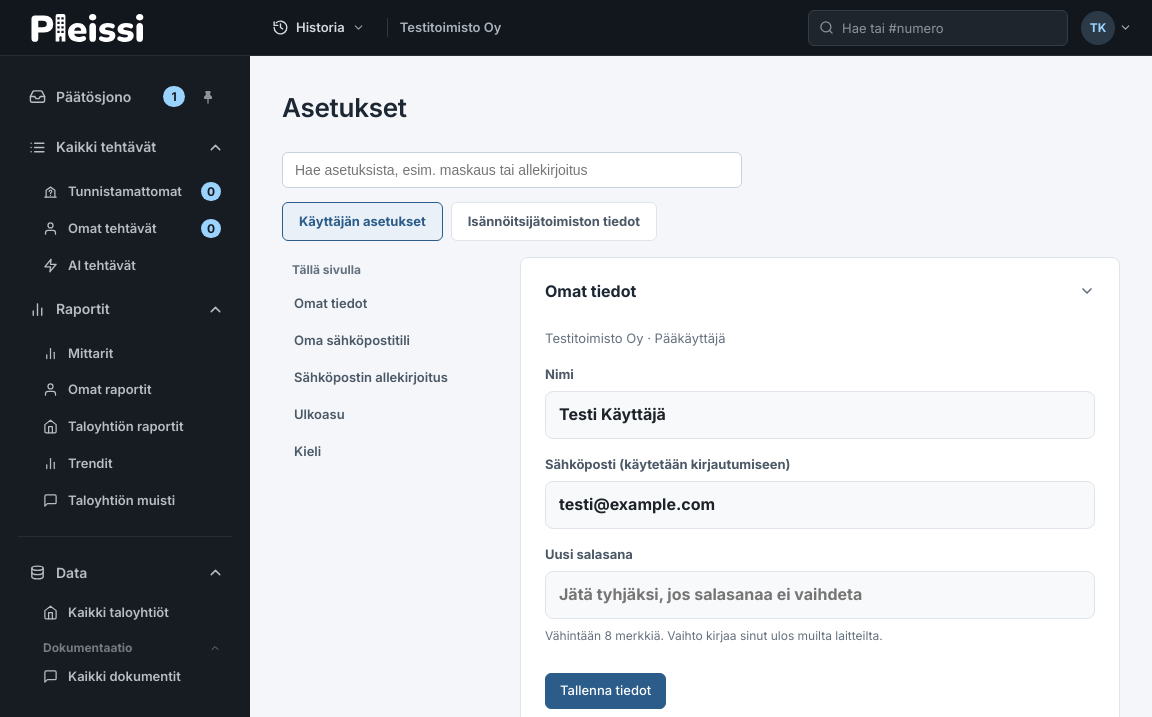
it: sovellus › asetusten haku avaa osion oikealta välilehdeltä
In the search field labelled "Hae asetuksista": [512, 170] box [282,152,742,188], type "henkilötunnus"
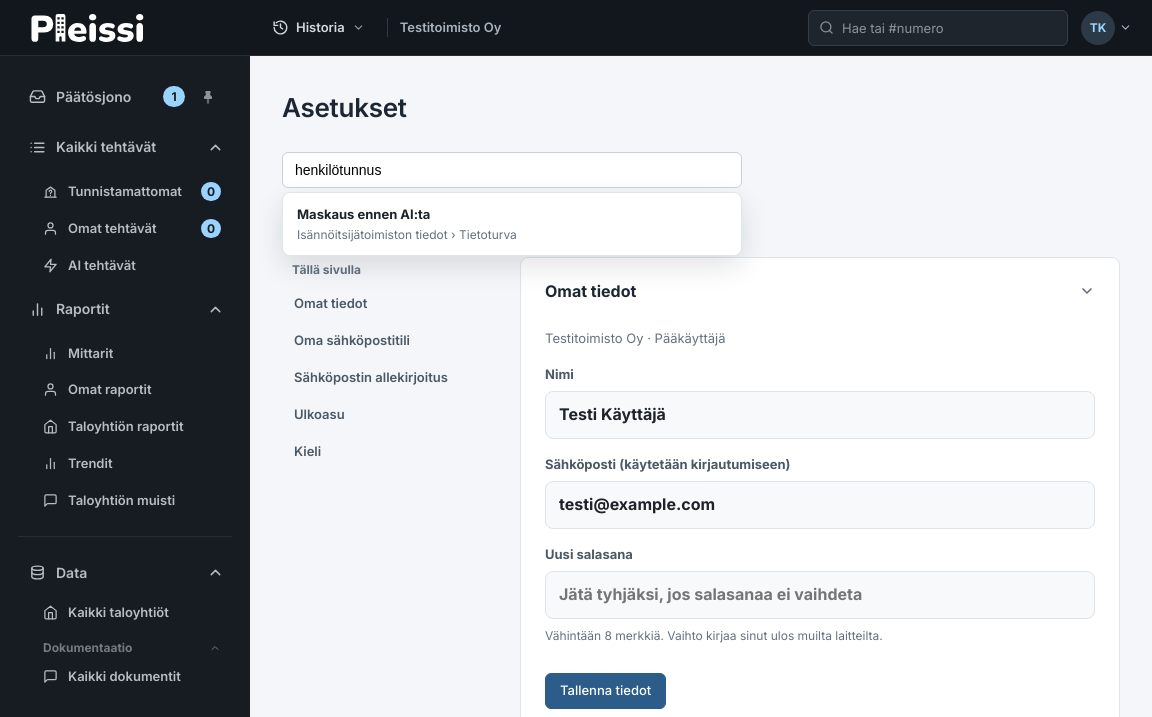
Click the option "Maskaus ennen AI:ta": [512, 224] box [287,197,737,251]
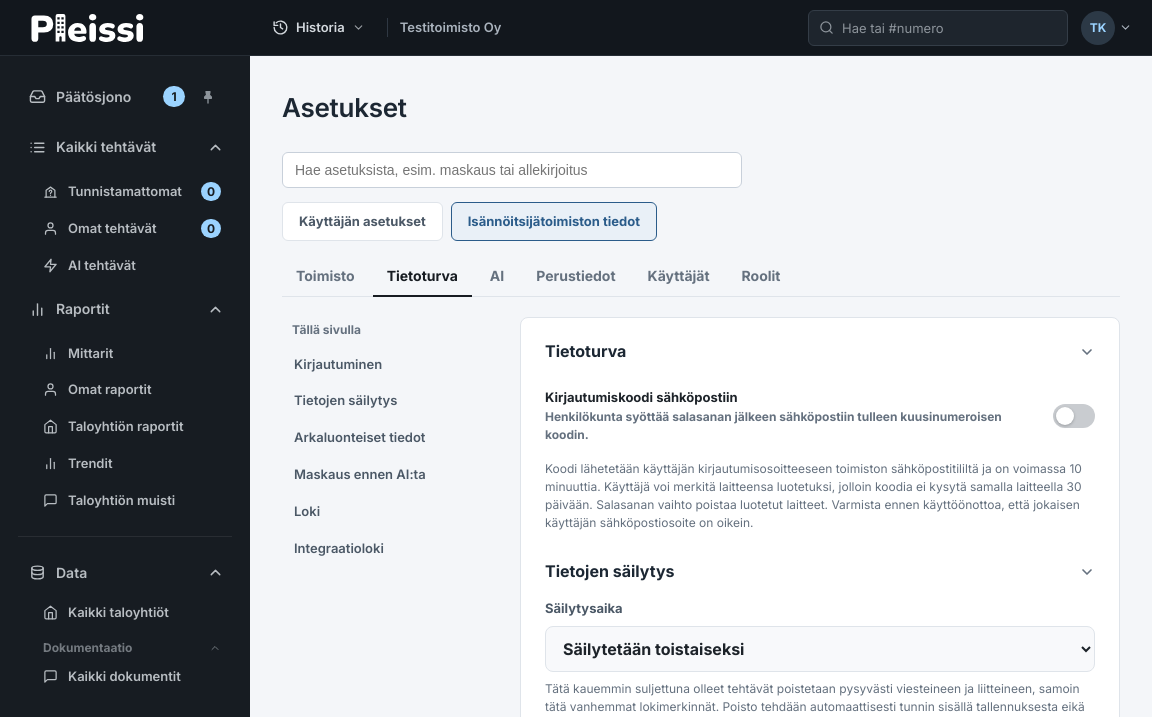
# AI-ehdotusten lisätietoikkuna on toimiston AI-asetuksissa, ei käyttäjän asetuksissa.
In the search field labelled "Hae asetuksista": [512, 170] box [282,152,742,188], type "AI-ehdotukset"
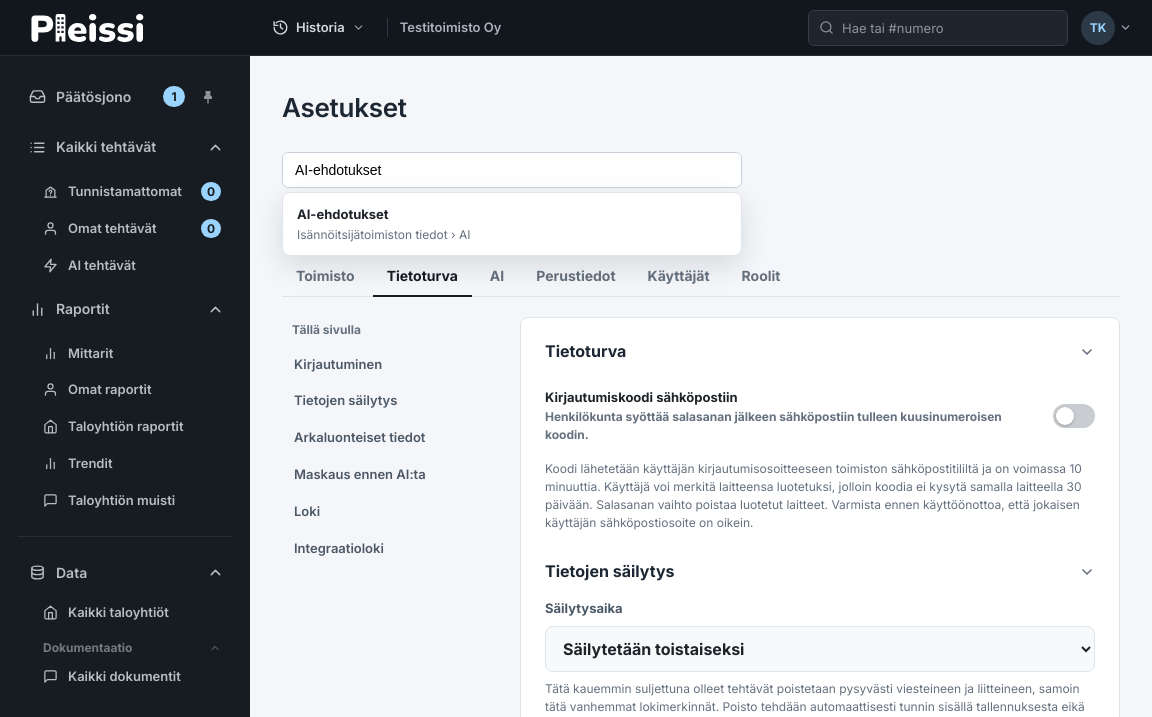
Check: the options read "AI-ehdotuksetIsännöitsijätoimiston tiedot › AI", in this order
Click the option "AI-ehdotukset Isännöitsijätoimiston tiedot › AI": [343, 214] box [287,197,737,251]
(page scrolled)
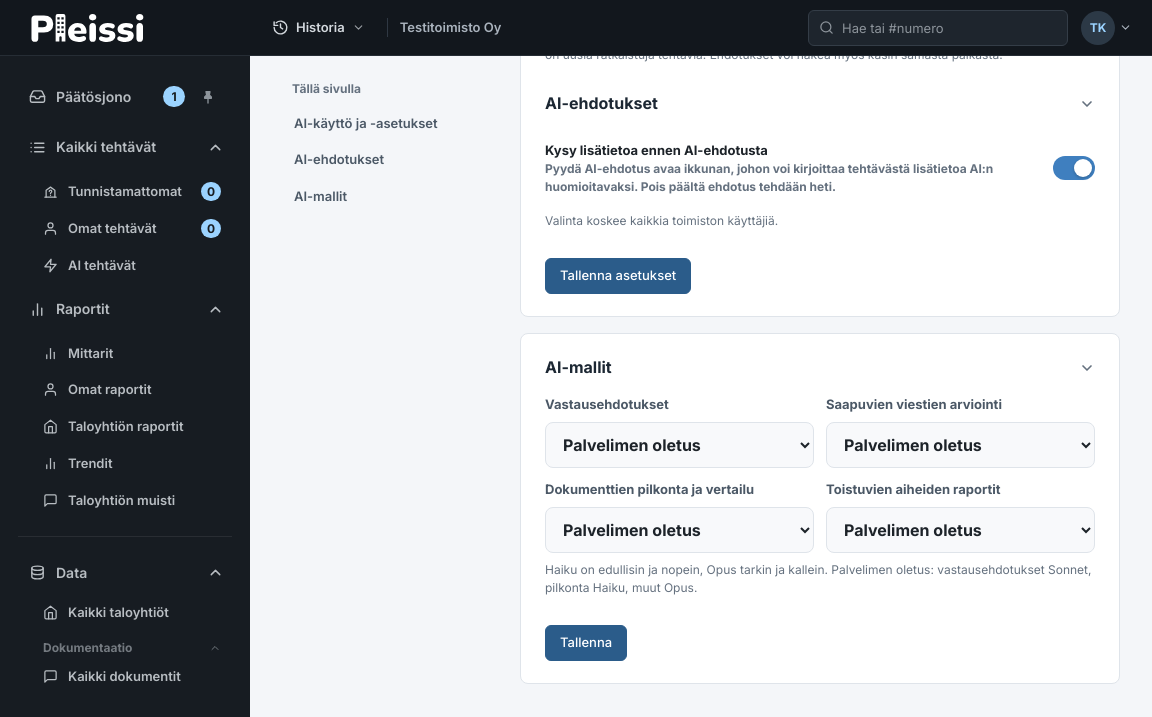
Check: the text "Kysy lisätietoa ennen AI-ehdotusta" is shown, box [545,142,768,158]
Check: the number of buttons "AI-mallit" is 2, box [282,179,492,214]; [545,356,1095,379]
